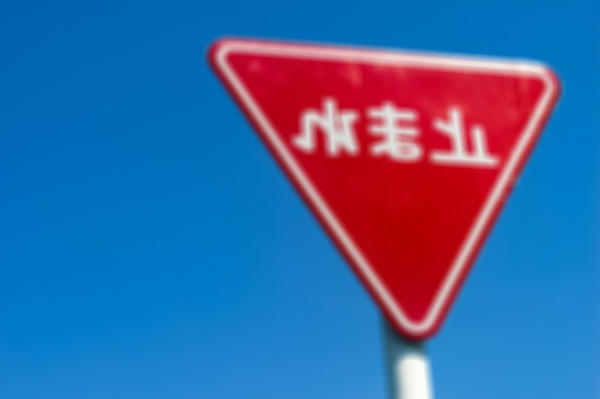Regulatory_sign_triangle: (195, 29, 574, 340)
